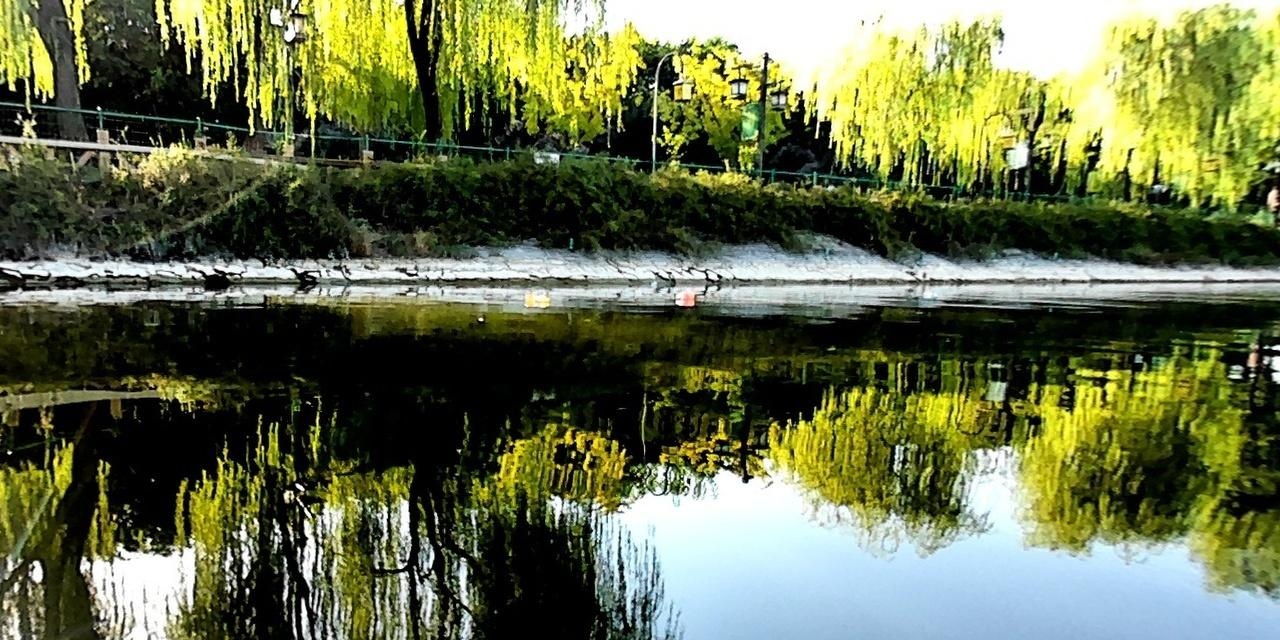bottle: (520, 290, 550, 304), (672, 287, 696, 302)
